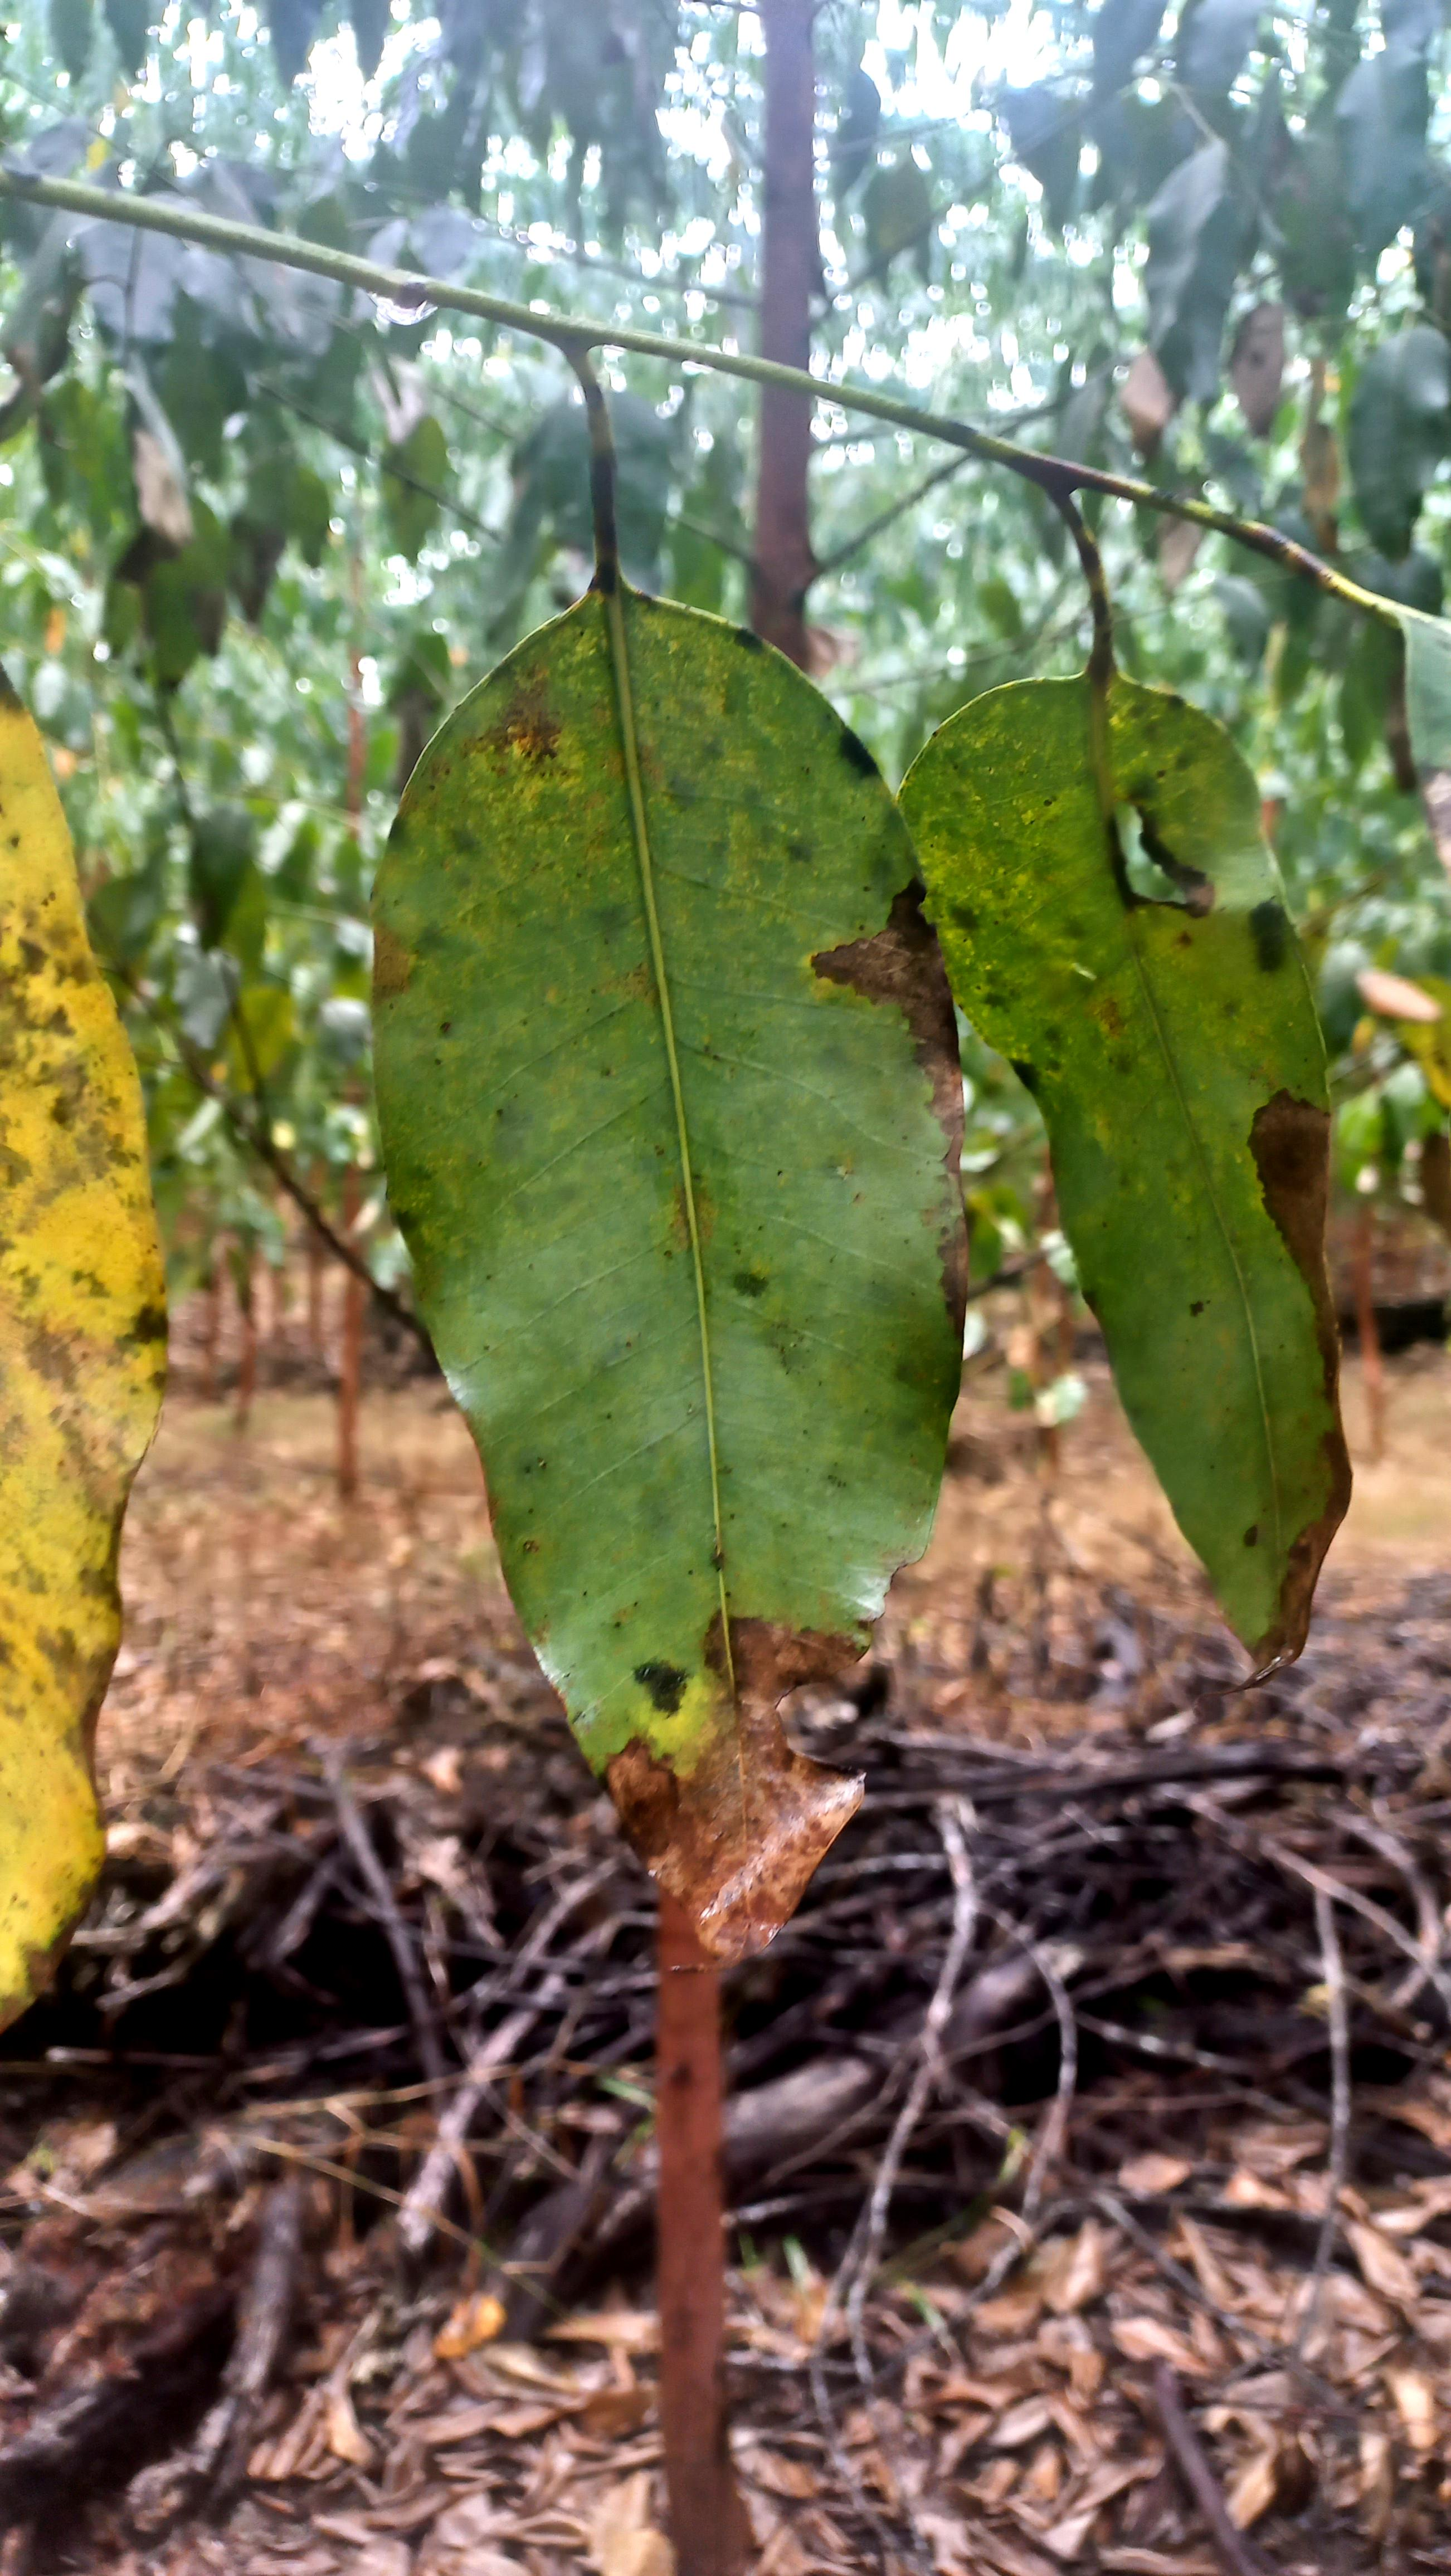Cylindrocladium: (0, 658, 168, 2075), (603, 1583, 876, 1937), (1239, 1093, 1370, 1670), (809, 870, 961, 1357), (74, 363, 193, 577), (1210, 290, 1294, 439)
